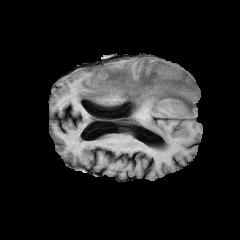glioma: (76, 60, 199, 136)
